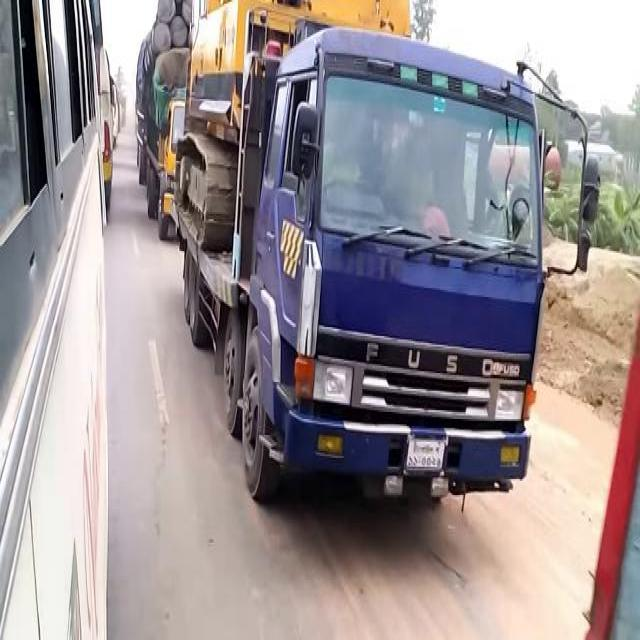vehicle: (178, 8, 557, 510), (1, 4, 113, 634), (135, 1, 196, 240)
